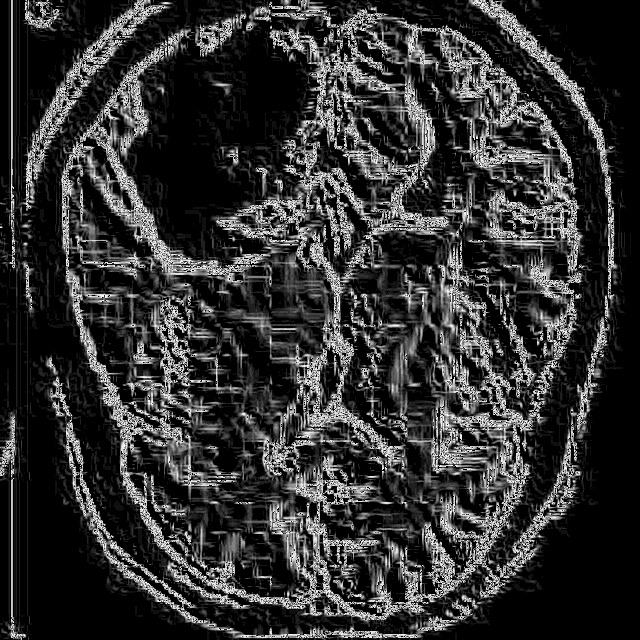Brain-Tumor: (115, 19, 330, 281)
